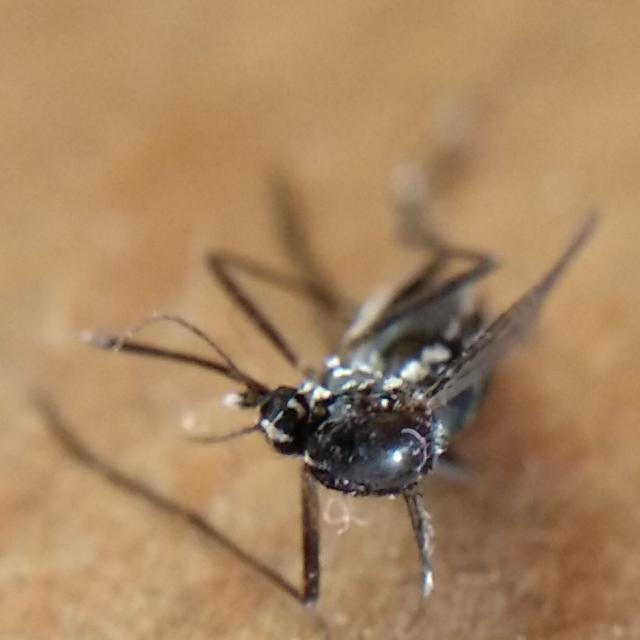albopictus: (96, 222, 499, 612)
